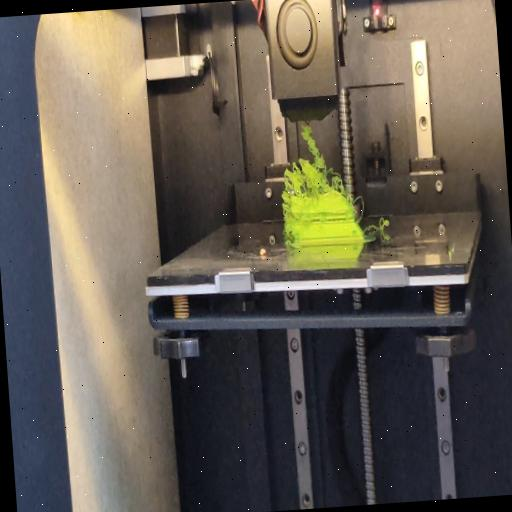spaghetti: (280, 124, 342, 202), (362, 214, 391, 231), (354, 193, 364, 224), (286, 236, 294, 246)
